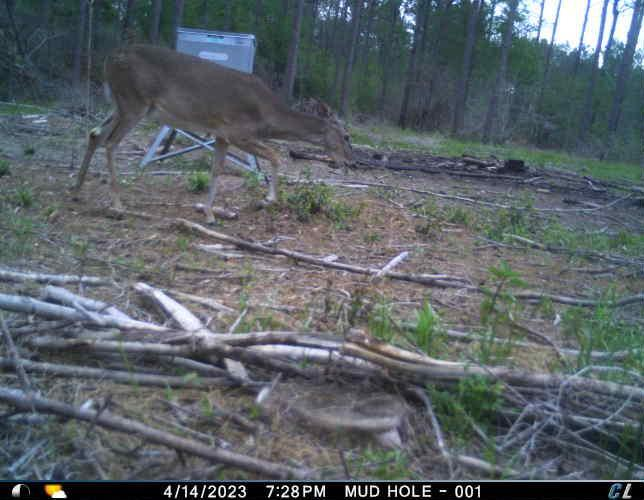Deer: (66, 40, 361, 226)
